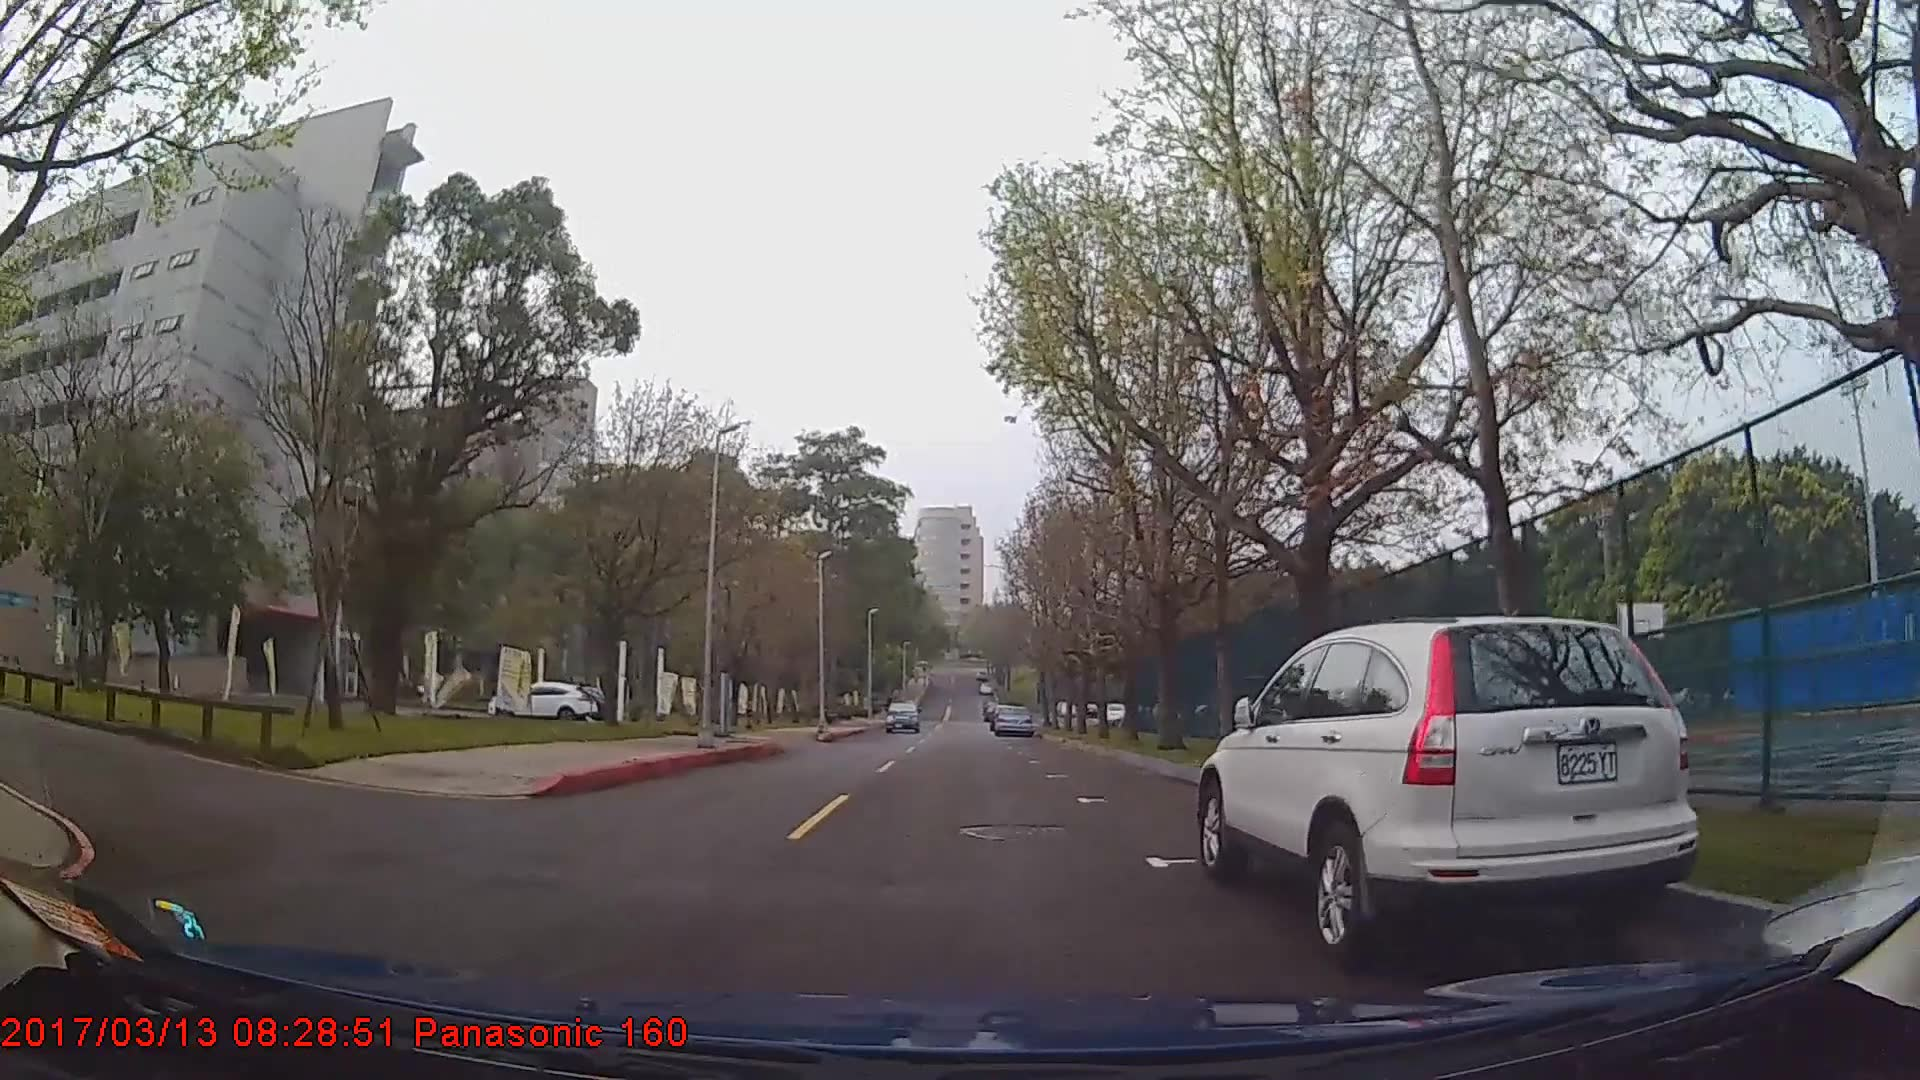vehicle: (1196, 611, 1702, 960), (491, 679, 597, 721), (992, 700, 1033, 733), (886, 699, 920, 733)
